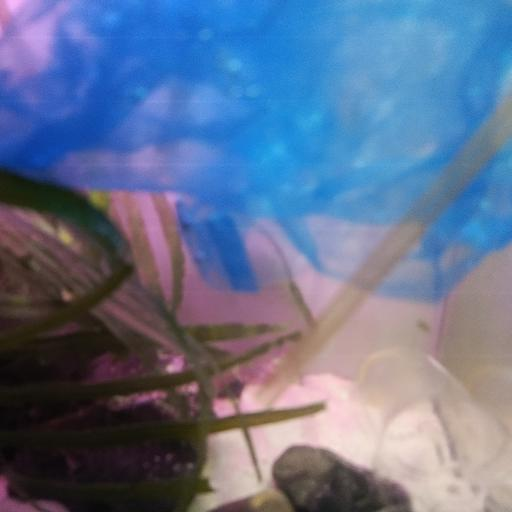plastic_bag: (3, 1, 512, 307)
plastic_straw: (255, 108, 512, 402)
